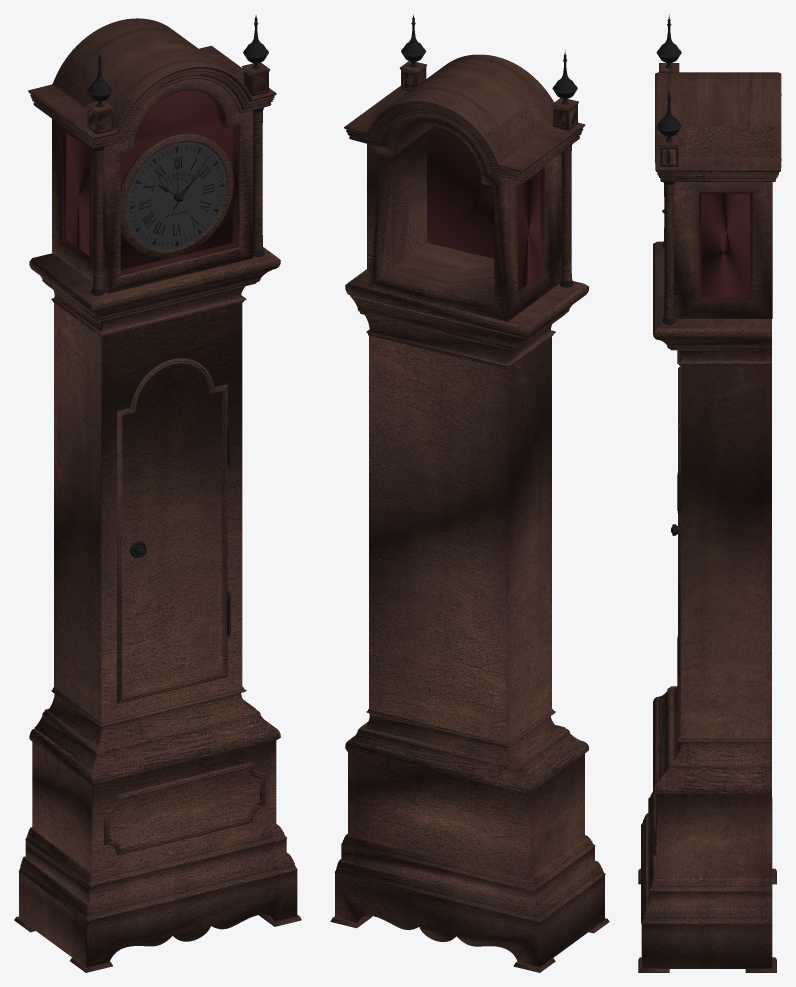
File: clok.obj
3 renders of one model, left to right at view 1: azimuth 30°, elevation 25°; view 2: azimuth 150°, elevation 25°; view 3: azimuth 270°, elevation 25°, orthographic. The views are drawn at different scales.
Parts seen in each view (by area): view 1: Clock_Clock_wood, Clock_Clock_back_2, Clock_Clock_back_1, Clock_Clock_metal, Clock_Clock_black; view 2: Clock_Clock_wood, Clock_Clock_back_2, Clock_Clock_metal; view 3: Clock_Clock_wood, Clock_Clock_back_2, Clock_Clock_metal.
Boxes of the visible parts, x1=… form: Clock_Clock_wood: x1=14, y1=18, x2=301, y2=972; Clock_Clock_back_2: x1=62, y1=90, x2=238, y2=275; Clock_Clock_back_1: x1=125, y1=142, x2=226, y2=250; Clock_Clock_metal: x1=86, y1=15, x2=268, y2=636; Clock_Clock_black: x1=130, y1=145, x2=224, y2=246; Clock_Clock_wood: x1=330, y1=54, x2=609, y2=972; Clock_Clock_back_2: x1=427, y1=127, x2=544, y2=295; Clock_Clock_metal: x1=401, y1=14, x2=577, y2=287; Clock_Clock_wood: x1=638, y1=63, x2=781, y2=972; Clock_Clock_back_2: x1=699, y1=192, x2=752, y2=300; Clock_Clock_metal: x1=656, y1=14, x2=681, y2=677.
Size of the model in its own units: 2.89 by 11.57 by 1.72.
